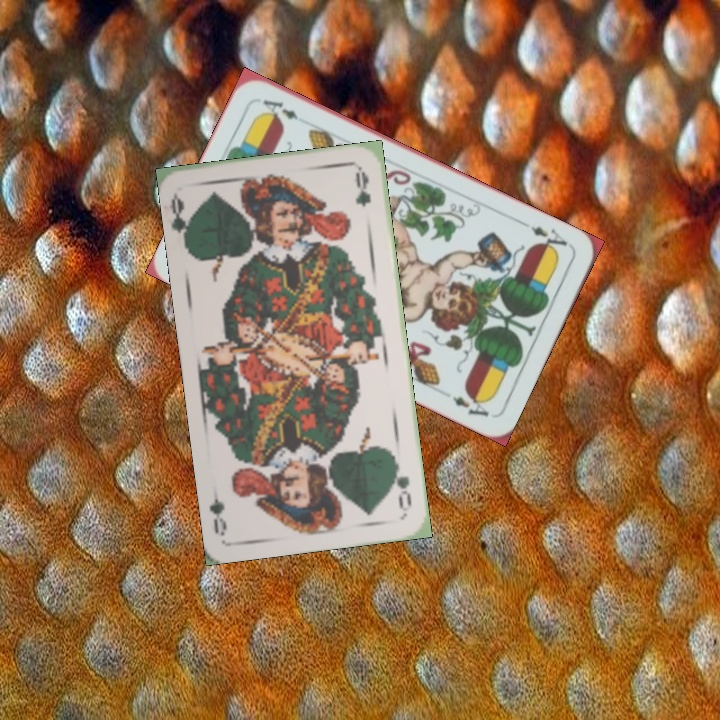EA: (518, 218, 570, 256)
GO: (167, 191, 196, 250), (389, 455, 414, 514)
